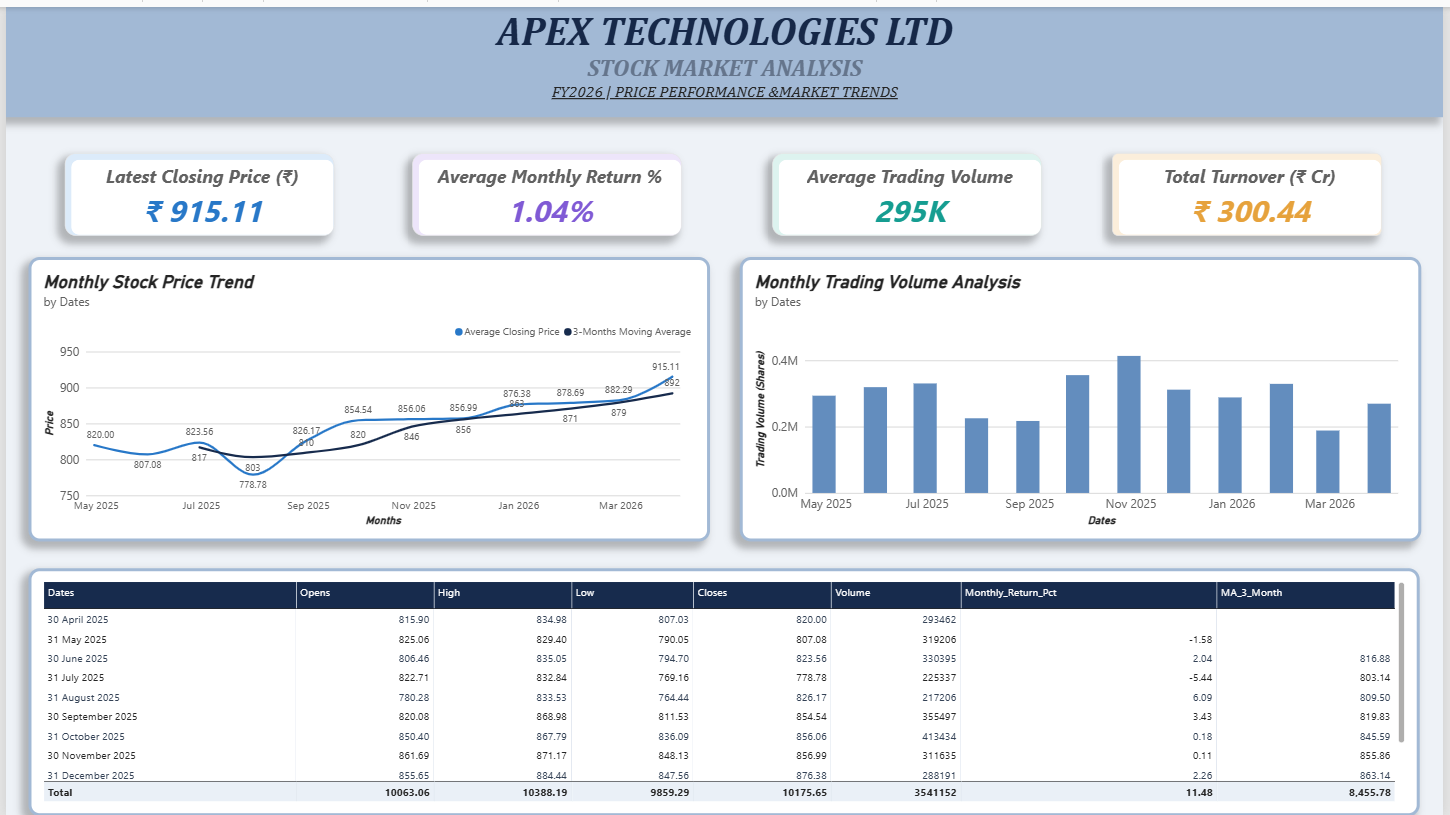

The dashboard page shown, as its layout file describes it:
{"tool":"powerbi","page":{"name":"STOCK MARKET ANALYSIS","canvas":[1920,1080],"ordinal":2},"visuals":[{"type":"textbox","box":[0,0,1920.2,146.9],"z":0},{"type":"cardVisual","fields":{"Data":["apex_equity_research monthly_stock_prices.Latest Closing Price (₹)"]},"box":[78.2,195.5,360,110],"z":1000},{"type":"cardVisual","fields":{"Data":["apex_equity_research monthly_stock_prices.Average Monthly Return %"]},"box":[543.4,195.5,360,110],"z":2000},{"type":"cardVisual","fields":{"Data":["apex_equity_research monthly_stock_prices.Average Trading Volume"]},"box":[1023,195.5,360,110],"z":3000},{"type":"cardVisual","fields":{"Data":["apex_equity_research monthly_stock_prices.Total Turnover (₹ Cr)"]},"box":[1477.9,195.5,360,110],"z":4000},{"type":"lineChart","title":"Monthly Stock Price Trend","fields":{"Category":["apex_equity_research monthly_stock_prices.Dates"],"Y":["Avg(apex_equity_research monthly_stock_prices.Closes)","Sum(apex_equity_research monthly_stock_prices.MA_3_Month)"]},"box":[30.9,333.4,910,380],"z":5000},{"type":"clusteredColumnChart","title":"Monthly Trading Volume Analysis","fields":{"Category":["apex_equity_research monthly_stock_prices.Dates"],"Y":["Sum(apex_equity_research monthly_stock_prices.Volume)"]},"box":[979.8,333.4,910,380],"z":6000},{"type":"tableEx","fields":{"Values":["apex_equity_research monthly_stock_prices.Dates","Sum(apex_equity_research monthly_stock_prices.Opens)","Sum(apex_equity_research monthly_stock_prices.High)","Sum(apex_equity_research monthly_stock_prices.Low)","Sum(apex_equity_research monthly_stock_prices.Closes)","Sum(apex_equity_research monthly_stock_prices.Volume)","Sum(apex_equity_research monthly_stock_prices.Monthly_Return_Pct)","Sum(apex_equity_research monthly_stock_prices.MA_3_Month)"]},"box":[30.9,749.2,1858.7,331.4],"z":7000}]}

Visuals, with their boxes in screenshot pixels (x1, y1, x2, y2), scaled from the page's 1920x1080 canvas onto the 1450x815 screenshot:
textbox: <bbox>0, 0, 1449, 111</bbox>
cardVisual - apex_equity_research monthly_stock_prices.Latest Closing Price (₹): <bbox>59, 148, 331, 231</bbox>
cardVisual - apex_equity_research monthly_stock_prices.Average Monthly Return %: <bbox>410, 148, 682, 231</bbox>
cardVisual - apex_equity_research monthly_stock_prices.Average Trading Volume: <bbox>773, 148, 1044, 231</bbox>
cardVisual - apex_equity_research monthly_stock_prices.Total Turnover (₹ Cr): <bbox>1116, 148, 1388, 231</bbox>
"Monthly Stock Price Trend" lineChart: <bbox>23, 252, 711, 538</bbox>
"Monthly Trading Volume Analysis" clusteredColumnChart: <bbox>740, 252, 1427, 538</bbox>
tableEx - apex_equity_research monthly_stock_prices.Dates x Sum(apex_equity_research monthly_stock_prices.Opens): <bbox>23, 565, 1427, 814</bbox>
